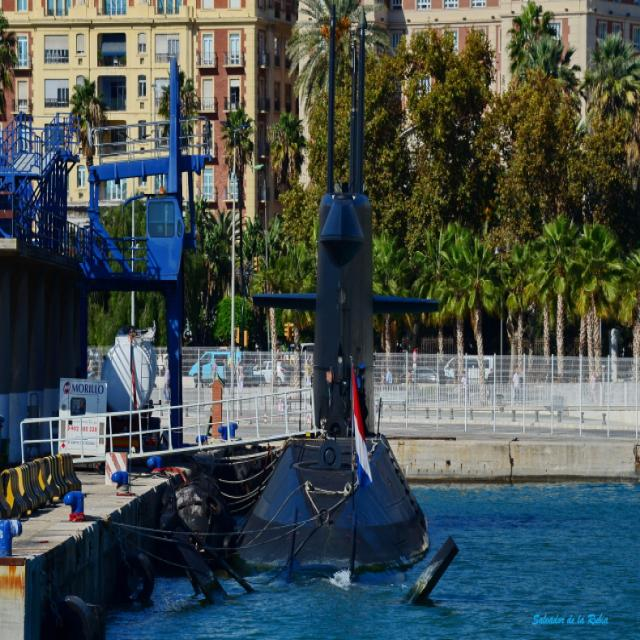submarine: (239, 1, 466, 611)
